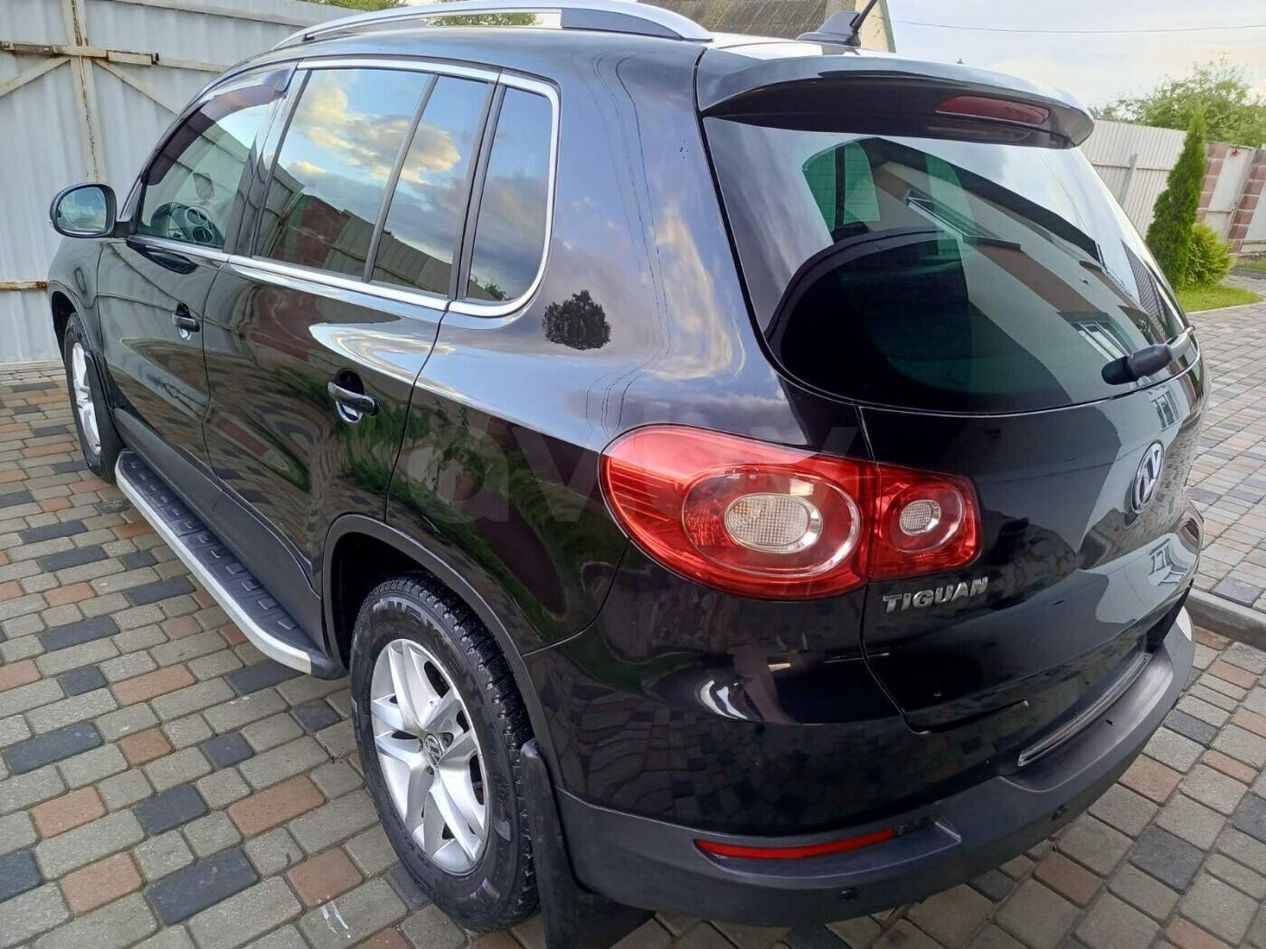Tiguan_2007-2011: (43, 21, 1205, 924)
